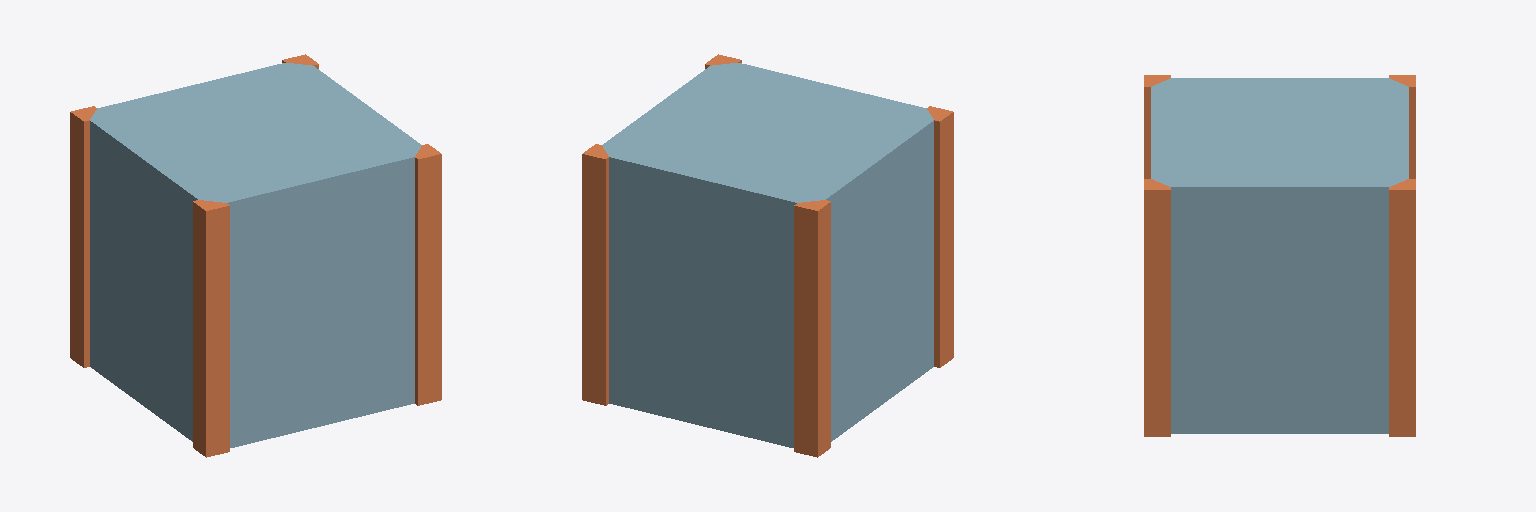
File: wallBlock.obj
3 renders of one model, left to right at view 1: azimuth 30°, elevation 25°; view 2: azimuth 150°, elevation 25°; view 3: azimuth 270°, elevation 25°, orthographic.
Visible parts, largest first — view 1: wallBlock; view 2: wallBlock; view 3: wallBlock.
Boxes of the visible parts, box(x1,y1,x2,y2) form: wallBlock: box(70, 54, 441, 457); wallBlock: box(582, 54, 953, 457); wallBlock: box(1144, 75, 1415, 436).
Size of the model in its own units: 1 by 1 by 1.